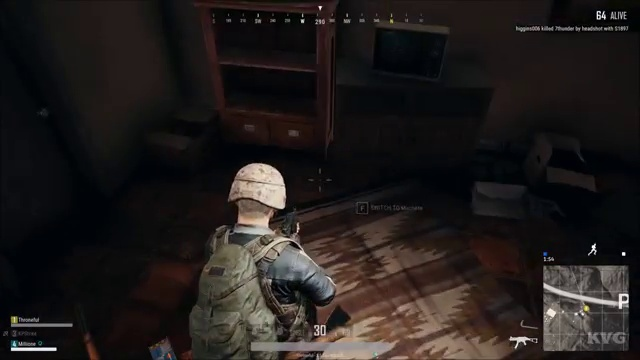Player: (185, 155, 337, 320)
